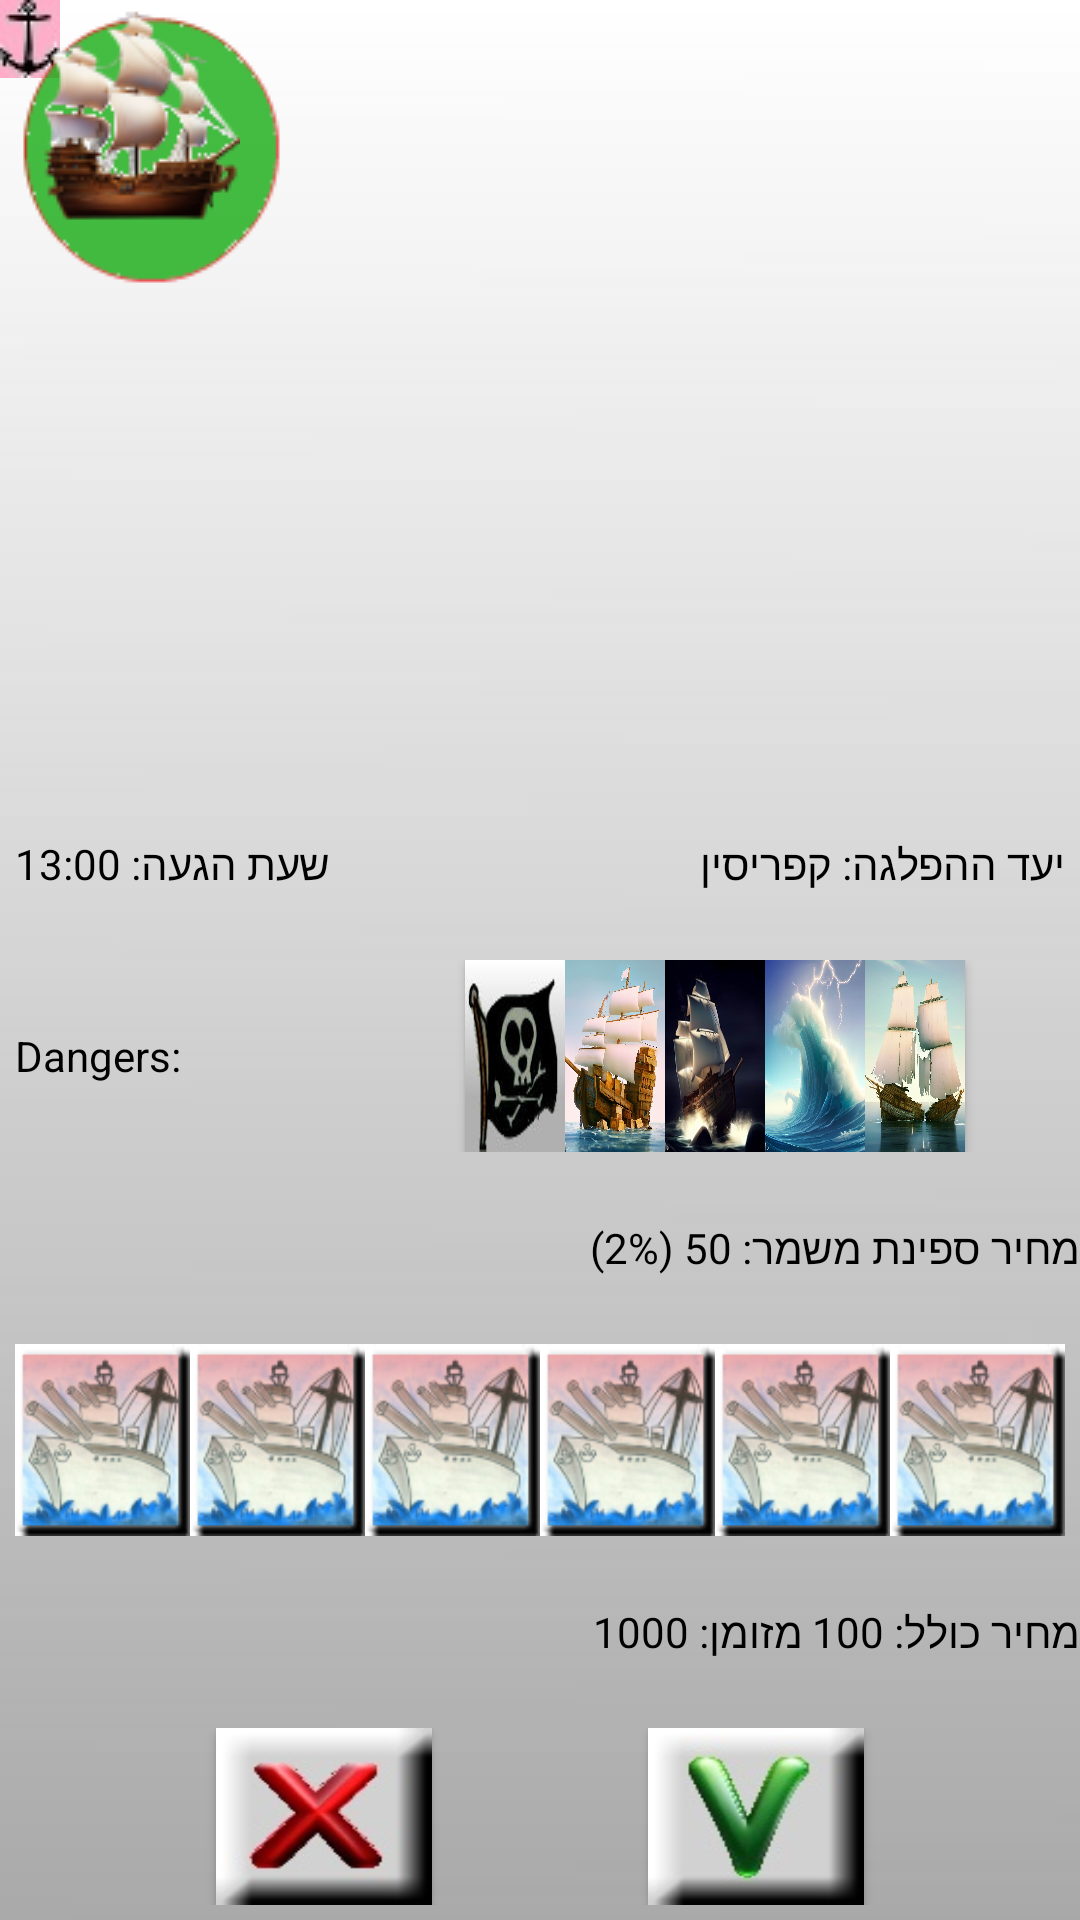

Icons on this 1080x1920 Android screen, each with the point to tap as [x,y]:
guard ship: [102,1440], [277,1440], [452,1440], [627,1440], [802,1440], [977,1440]
pirates: [515,1056]
rock: [715,1056]
storm weather: [815,1056]
